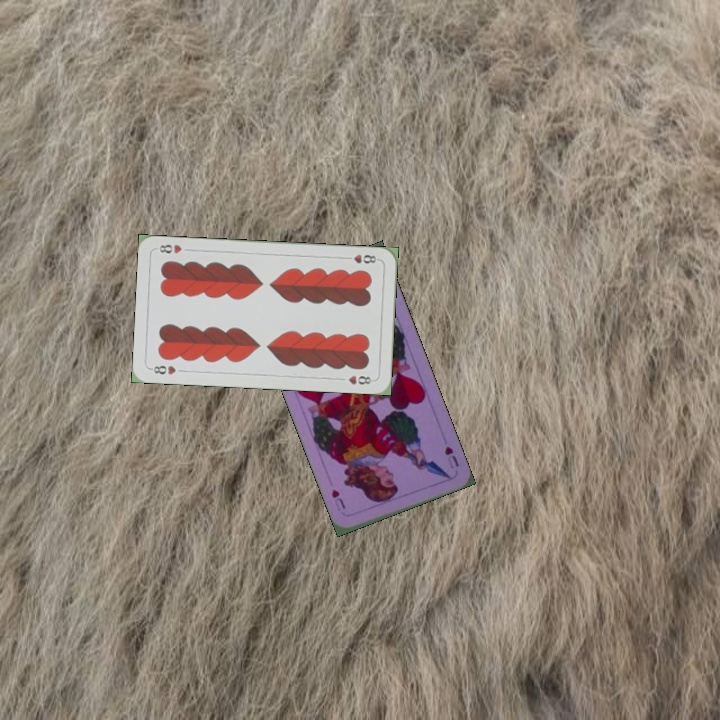H8: (341, 250, 381, 266), (147, 361, 178, 377)
HU: (440, 442, 461, 471)
